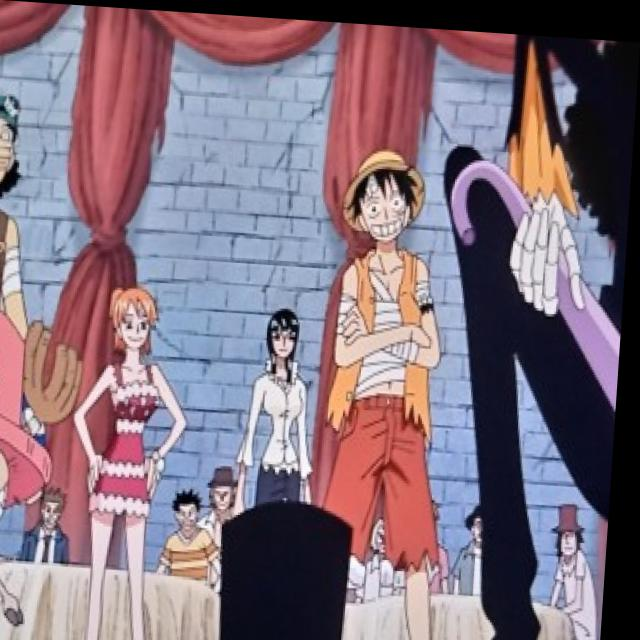Chyopa: (0, 305, 87, 640)
Luffy: (341, 142, 432, 237)
Nami: (109, 281, 169, 359)
NicoRobin: (266, 304, 315, 370)
Usopp: (0, 94, 37, 199)
